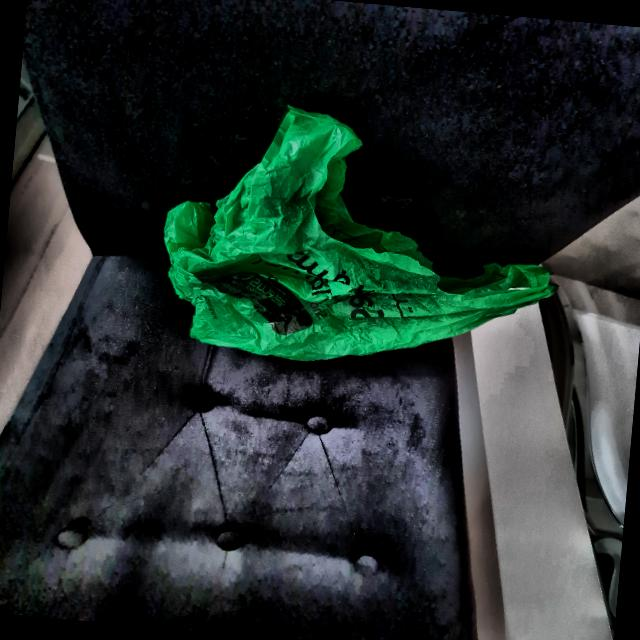plastic bag: (162, 104, 574, 390)
